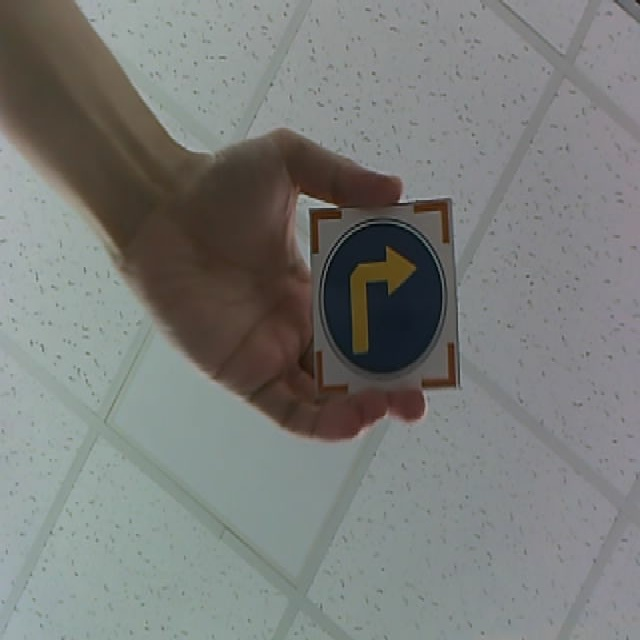right: (309, 199, 463, 399)
